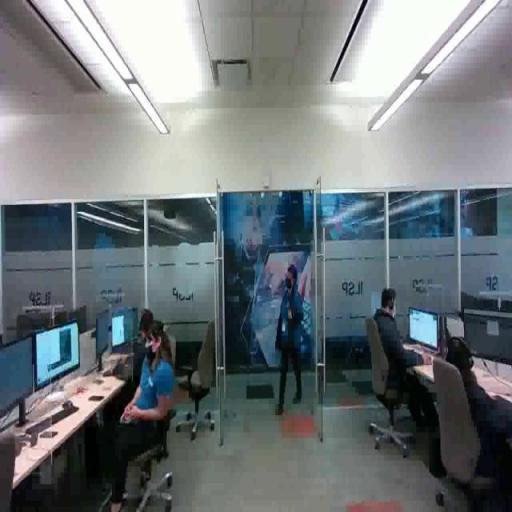person: (92, 316, 189, 505), (360, 285, 433, 408), (275, 262, 307, 419)
